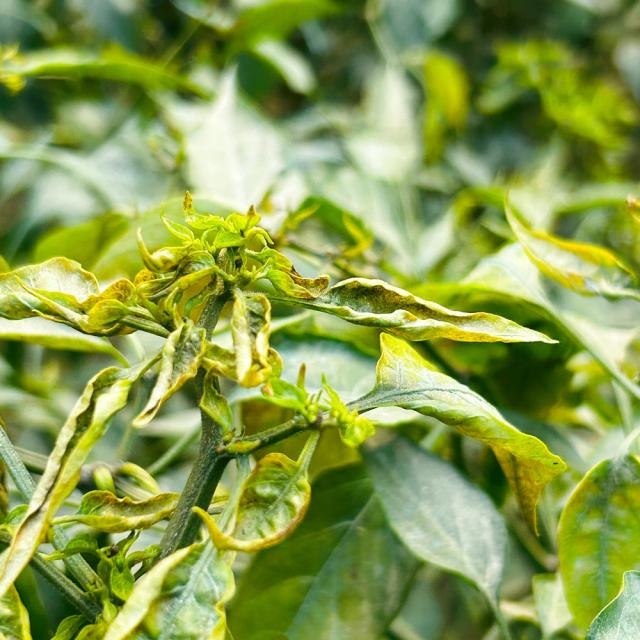Chilli_Leaf_Curl: (1, 192, 567, 638), (340, 330, 568, 538), (263, 275, 560, 346), (554, 452, 639, 638), (501, 187, 638, 301)
